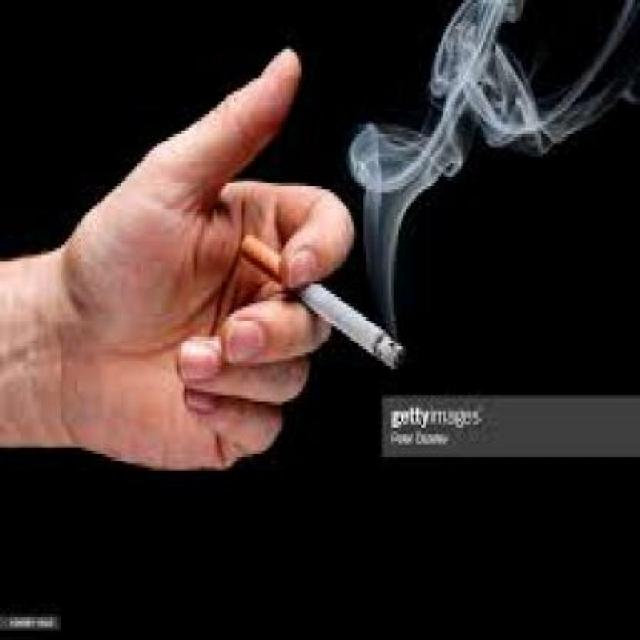cigarette: (239, 226, 406, 376)
